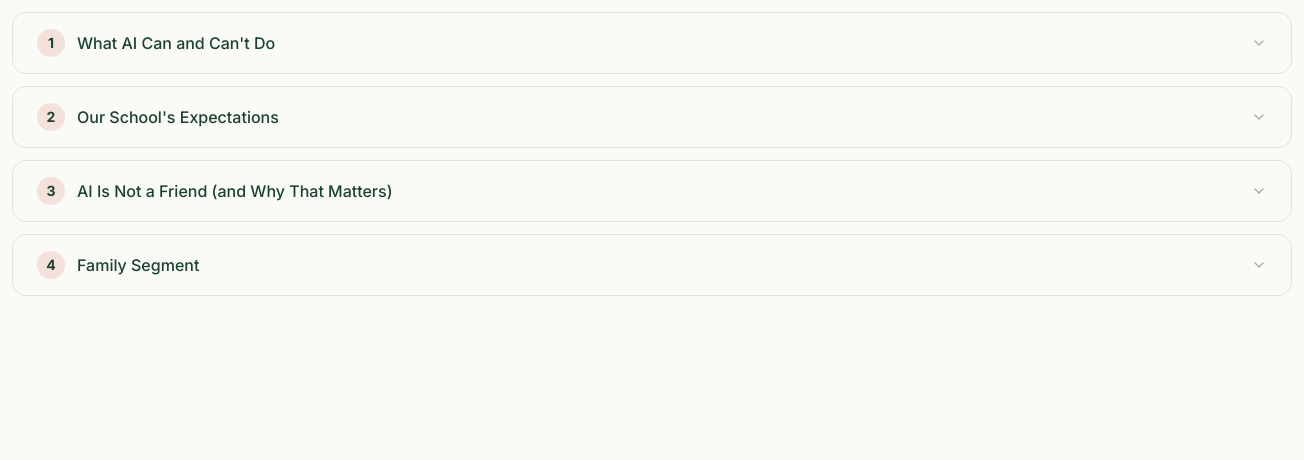
Test: SessionCards › clicking a session reveals its core experience text
Click the text "What AI Can and Can't Do". click: (176, 43)
box: [77,31,275,55]
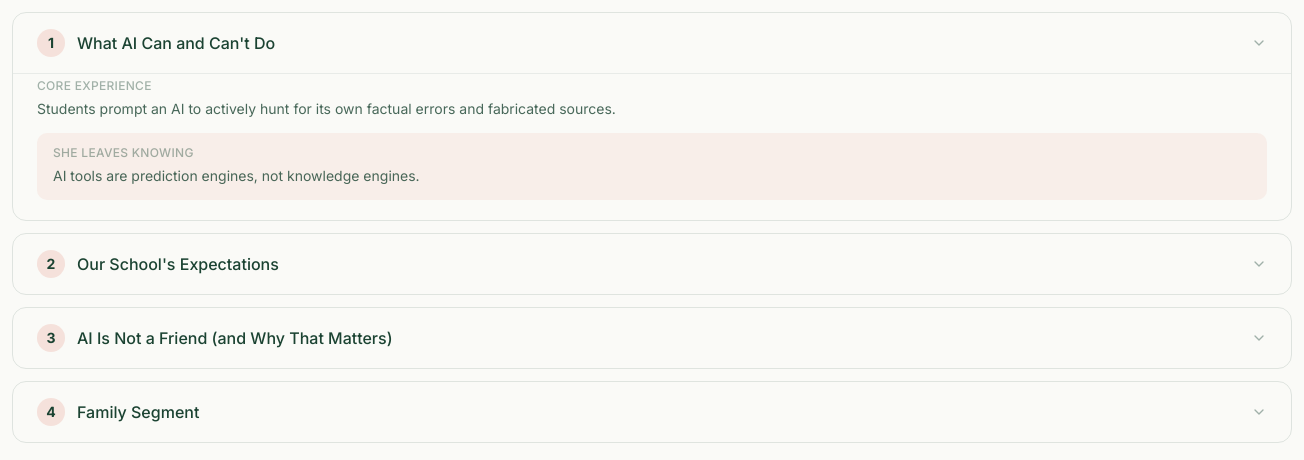
Result: the text "prompt an AI to actively hunt" is shown at [37,100,616,117]
